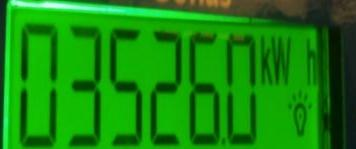.: (259, 33, 320, 88)
0: (219, 136, 228, 146)
1: (16, 20, 61, 149), (225, 33, 260, 147)
3: (149, 29, 184, 145)
4: (65, 24, 103, 148)
6: (109, 28, 145, 145)
7: (187, 31, 220, 146)
